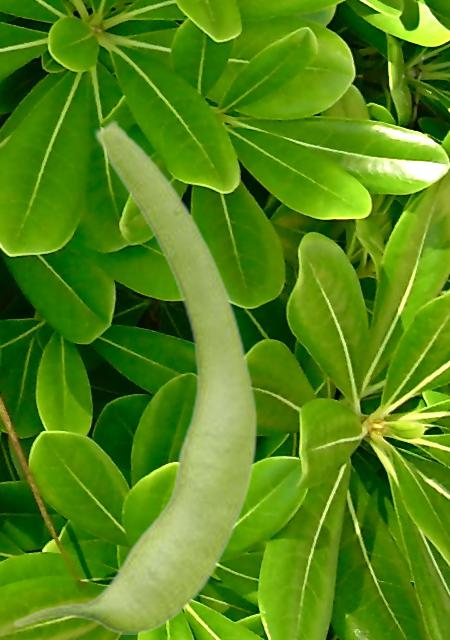french_bean: (11, 117, 258, 633)
